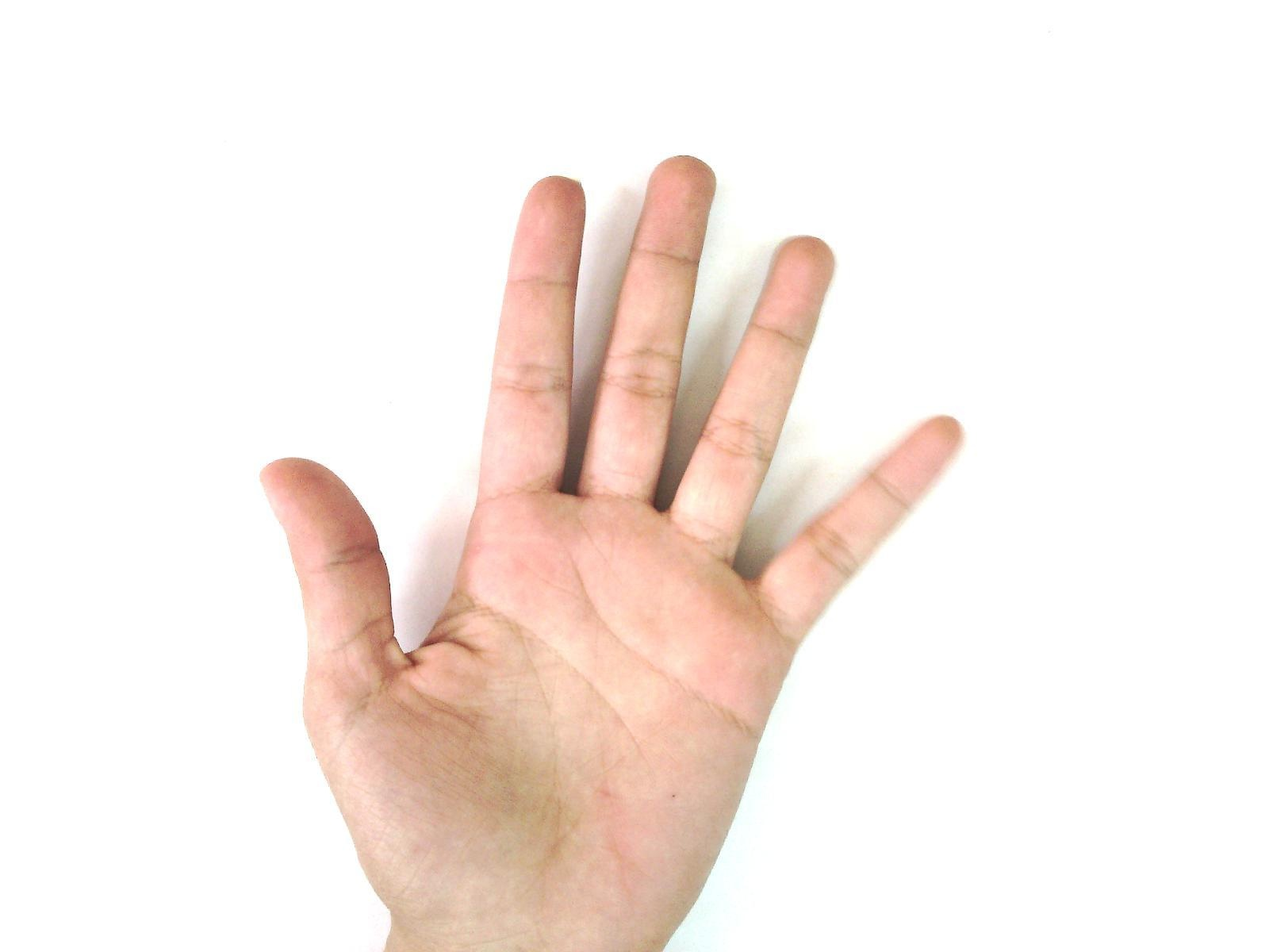open_palm: (258, 154, 968, 951)
